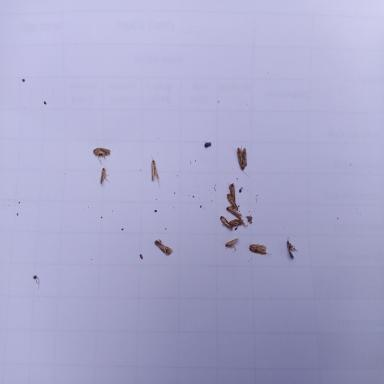pbw: (237, 144, 248, 178), (154, 239, 172, 256), (249, 242, 272, 255), (93, 148, 110, 165), (286, 237, 298, 259), (152, 155, 160, 187), (225, 237, 239, 253), (99, 166, 110, 184), (220, 216, 233, 230), (227, 194, 238, 210), (228, 208, 242, 219), (229, 182, 235, 202), (229, 219, 244, 226)
